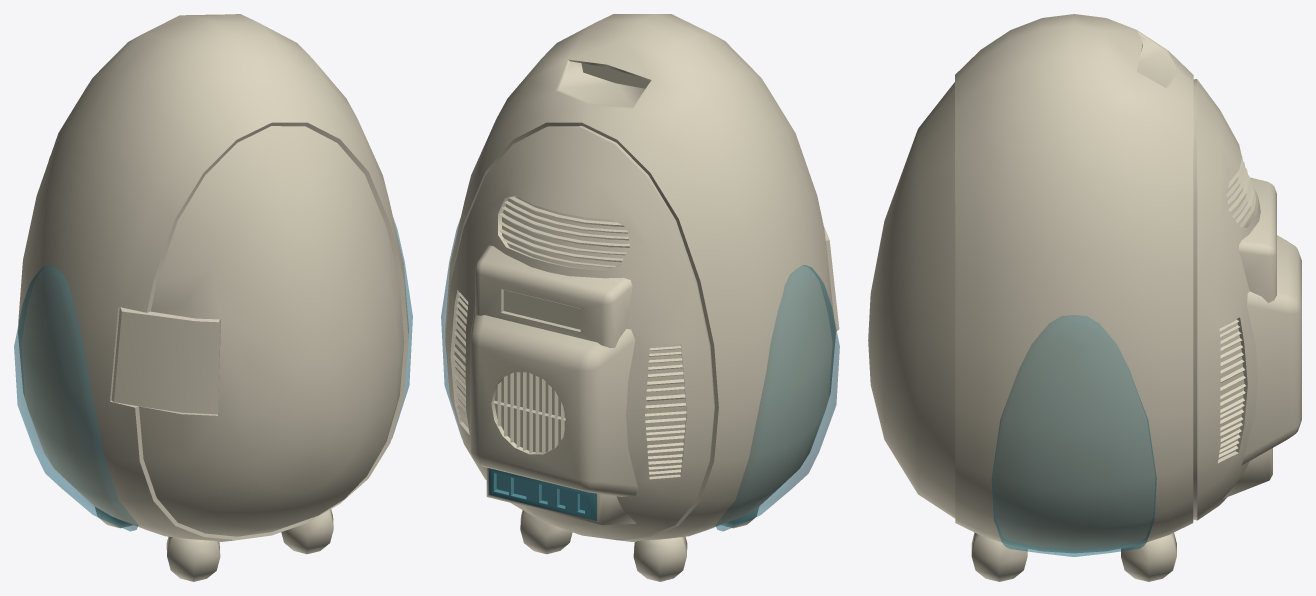
The model's file is DXBX6L.FBX.
3 renders of one model, left to right at view 1: azimuth 30°, elevation 25°; view 2: azimuth 150°, elevation 25°; view 3: azimuth 270°, elevation 25°, orthographic.
Parts seen in each view (by area): view 1: DXBX6L; view 2: DXBX6L; view 3: DXBX6L.
Part boxes in pixels (x1,y1,x2,y2): DXBX6L: (14,14,412,581); DXBX6L: (441,14,839,581); DXBX6L: (868,14,1301,581).
Bounding box in the file's own units: 26.9 × 28.3 × 37.9.
